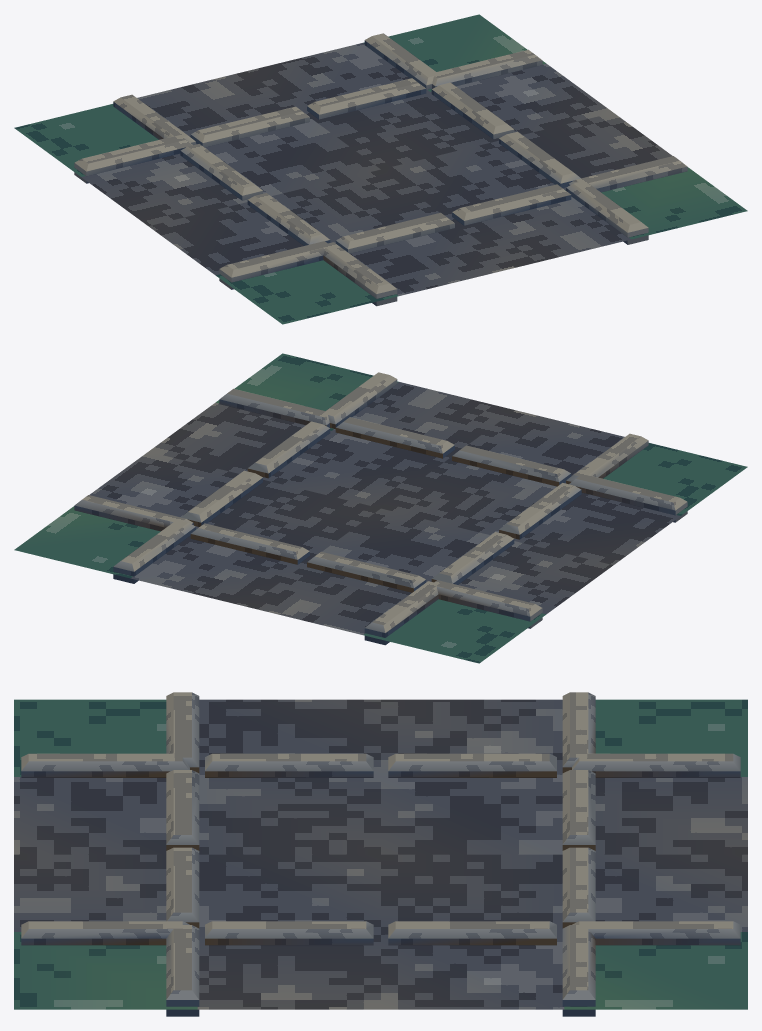
The model's file is mter.ground__path_cross.glb.
3 renders of one model, top to bottom at view 1: azimuth 30°, elevation 25°; view 2: azimuth 150°, elevation 25°; view 3: azimuth 270°, elevation 25°, orthographic. The views are drawn at different scales.
Parts seen in each view (by area): view 1: kit_shell_ground, kit_kerbs; view 2: kit_shell_ground, kit_kerbs; view 3: kit_shell_ground, kit_kerbs.
Boxes of the visible parts, bbox=[...] form: kit_shell_ground: bbox=[14, 14, 747, 324]; kit_kerbs: bbox=[74, 33, 687, 306]; kit_shell_ground: bbox=[14, 353, 747, 663]; kit_kerbs: bbox=[74, 372, 687, 645]; kit_shell_ground: bbox=[14, 699, 747, 1009]; kit_kerbs: bbox=[21, 692, 740, 1016].
Size of the model in its own units: 4 by 0.14 by 4.
3 materials, 3 textured.
